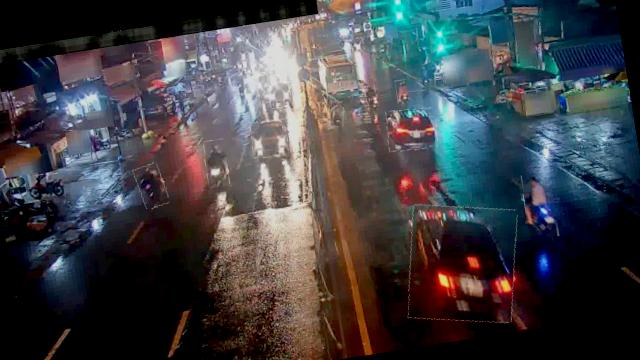Bike: (520, 171, 560, 241), (134, 163, 170, 210), (202, 138, 230, 190), (25, 172, 66, 202), (328, 100, 346, 127), (394, 78, 410, 103), (364, 85, 378, 109)
Car: (396, 193, 528, 332), (384, 105, 440, 154), (250, 118, 290, 159), (268, 80, 294, 110)
